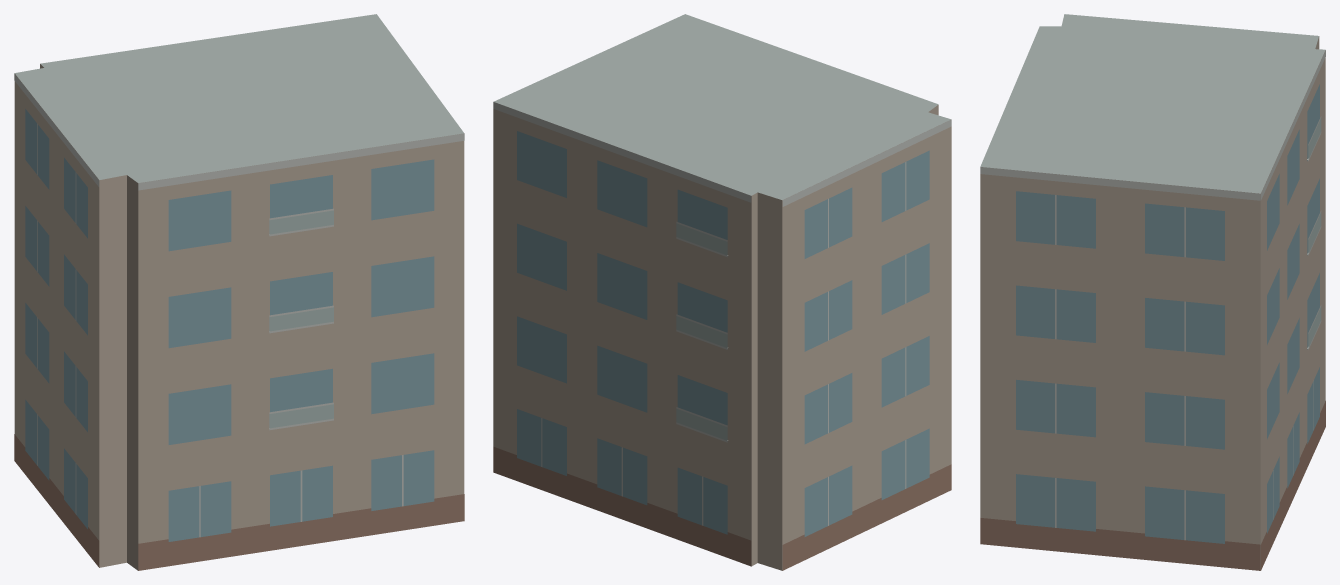
Rendered from survey-upis-32929042.glb.
3 views of the same model, side by side, from view 1: azimuth 30°, elevation 25°; view 2: azimuth 150°, elevation 25°; view 3: azimuth 270°, elevation 25° (orthographic). The views are drawn at different scales.
Visible parts, largest first — view 1: survey-upis-32929042.tmp; view 2: survey-upis-32929042.tmp; view 3: survey-upis-32929042.tmp.
Boxes of the visible parts, <box> form: survey-upis-32929042.tmp: <box>14,14,464,570</box>; survey-upis-32929042.tmp: <box>493,14,951,570</box>; survey-upis-32929042.tmp: <box>980,14,1325,570</box>.
Size of the model in its own units: 13.08 by 12.8 by 10.64.
